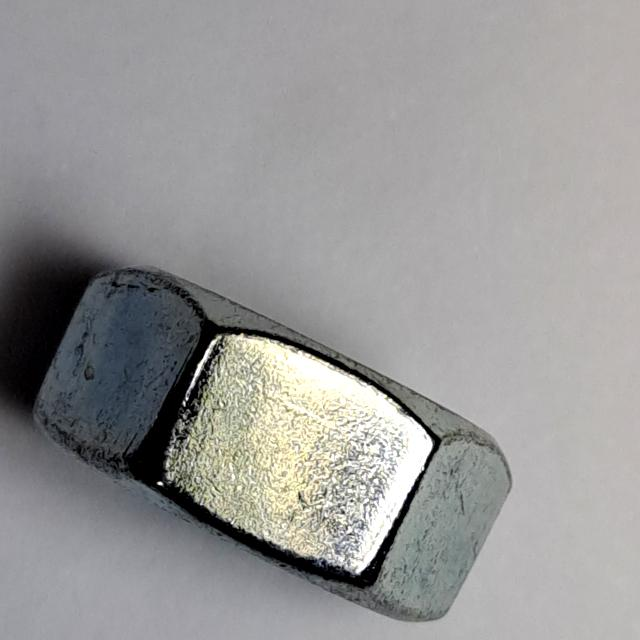Side_Excellent: (21, 256, 525, 631)
